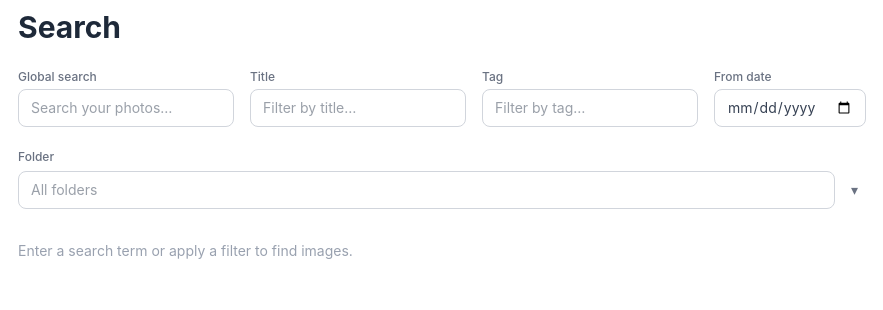
Test: SearchPage › lists the folders the server returned
The width and height of the screenshot is (883, 310).
What coordinates should you click on to do the following:
click the button with test id "album-picker-toggle"
I would click on:
 (854, 190)
Its box is x1=843 y1=171 x2=866 y2=209.
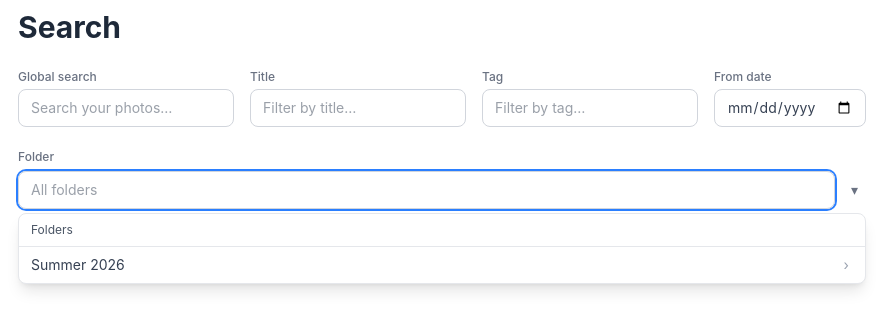
Expected: the option with test id "album-picker-option-1" shows "Summer 2026", x1=31 y1=255 x2=853 y2=275
